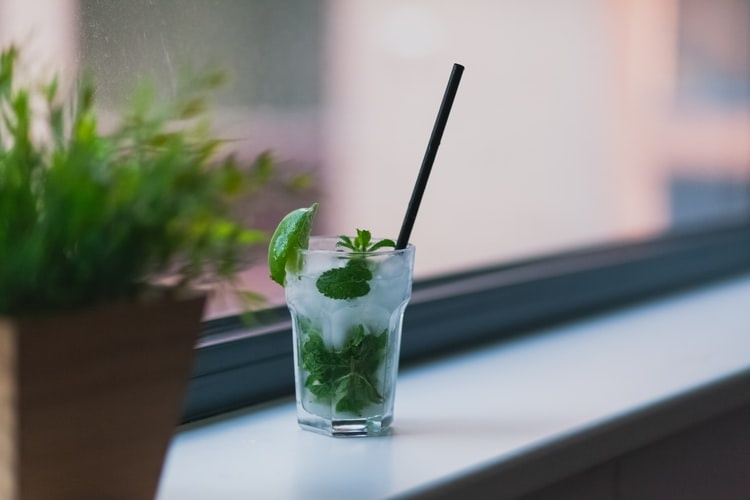whiskey: (280, 239, 411, 440)
